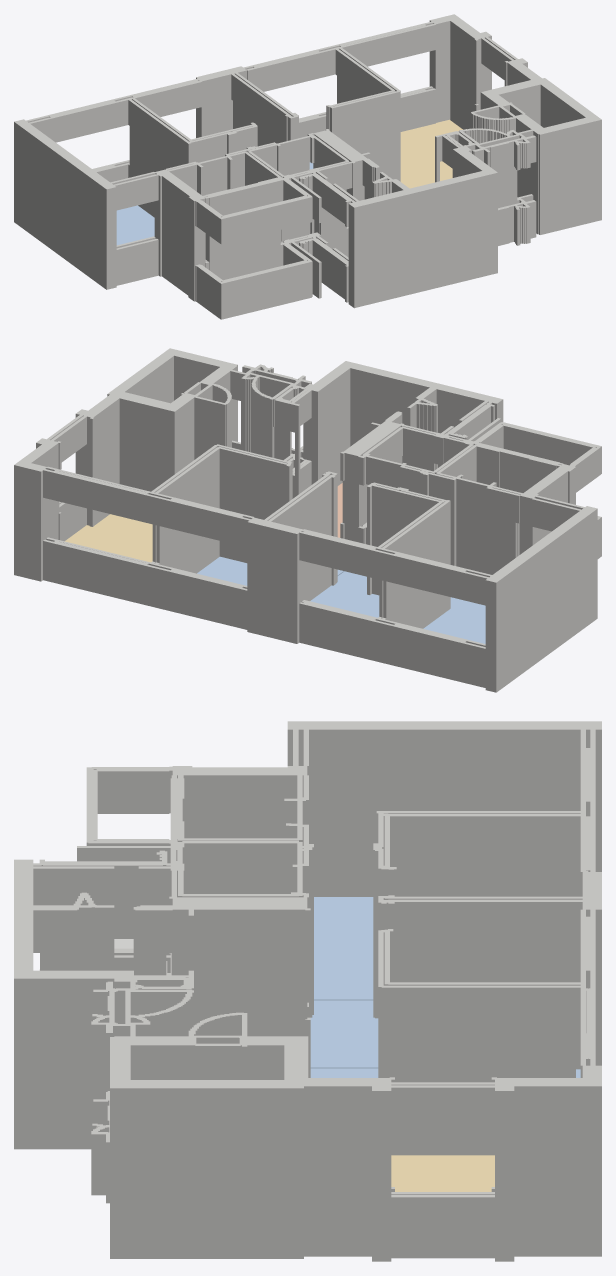
3 renders of one model, top to bottom at view 1: azimuth 30°, elevation 25°; view 2: azimuth 150°, elevation 25°; view 3: azimuth 270°, elevation 25°, orthographic. The views are drawn at different scales.
Parts seen in each view (by area): view 1: walls, room:living:3, room:bedroom:0; view 2: walls, room:living:3, room:bedroom:1, room:bedroom:0, room:bedroom:2; view 3: walls, room:bedroom:0, room:bedroom:1, room:living:3, room:bedroom:2.
Boxes of the visible parts, x1,y1,x2,y2 form: walls: [14, 14, 601, 319]; room:living:3: [400, 119, 462, 188]; room:bedroom:0: [116, 205, 154, 245]; walls: [14, 348, 601, 692]; room:living:3: [65, 514, 152, 562]; room:bedroom:1: [310, 571, 379, 617]; room:bedroom:0: [423, 597, 485, 643]; room:bedroom:2: [197, 556, 344, 585]; walls: [14, 721, 601, 1261]; room:bedroom:0: [314, 897, 373, 1000]; room:bedroom:1: [310, 1000, 378, 1068]; room:living:3: [391, 1155, 494, 1191]; room:bedroom:2: [310, 1068, 580, 1077].
Bounding box in the file's own units: 13.02 × 2.8 × 8.75.
